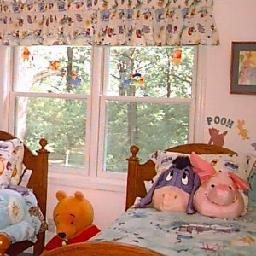Cama: (67, 153, 250, 255), (2, 138, 47, 252)
Ventana: (4, 38, 186, 166)
